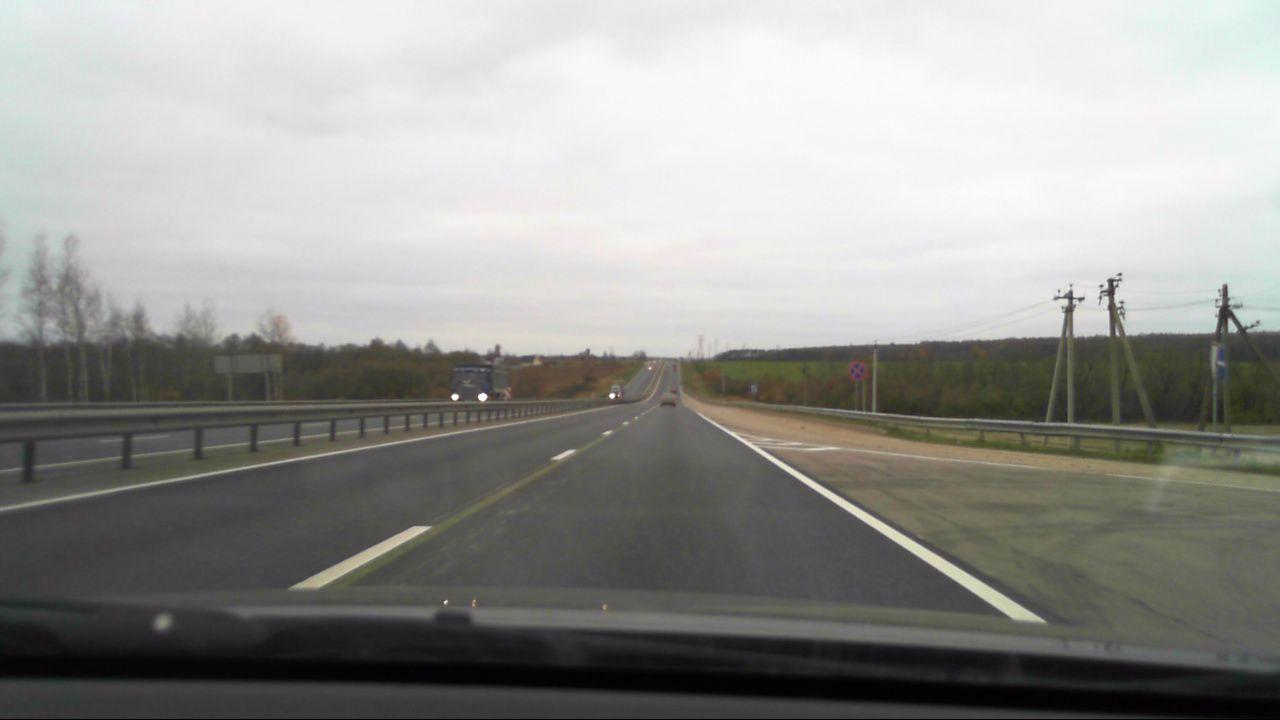3_27: (848, 361, 867, 379)
4_2_2: (1203, 345, 1228, 385)
